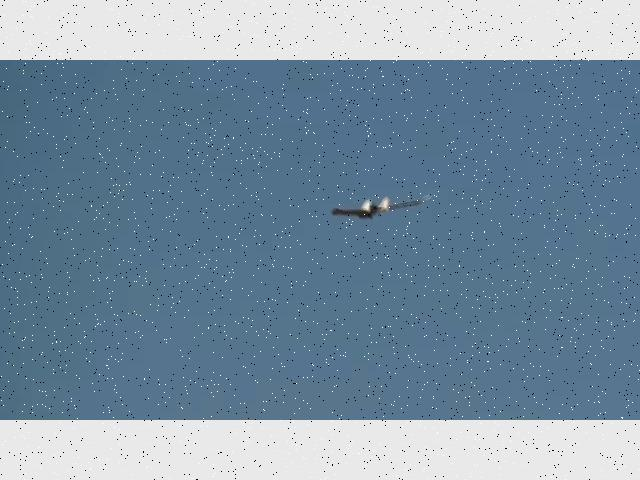Anti-Drone: (332, 196, 432, 220)
